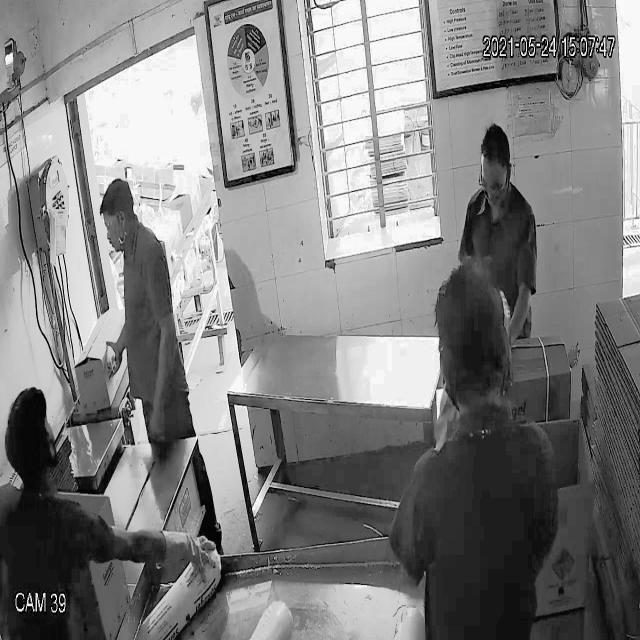glasses: (476, 171, 512, 200)
